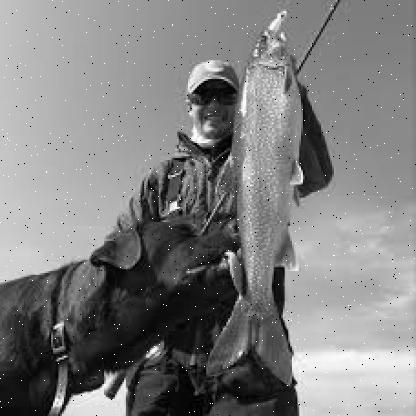fish: (196, 8, 308, 380)
